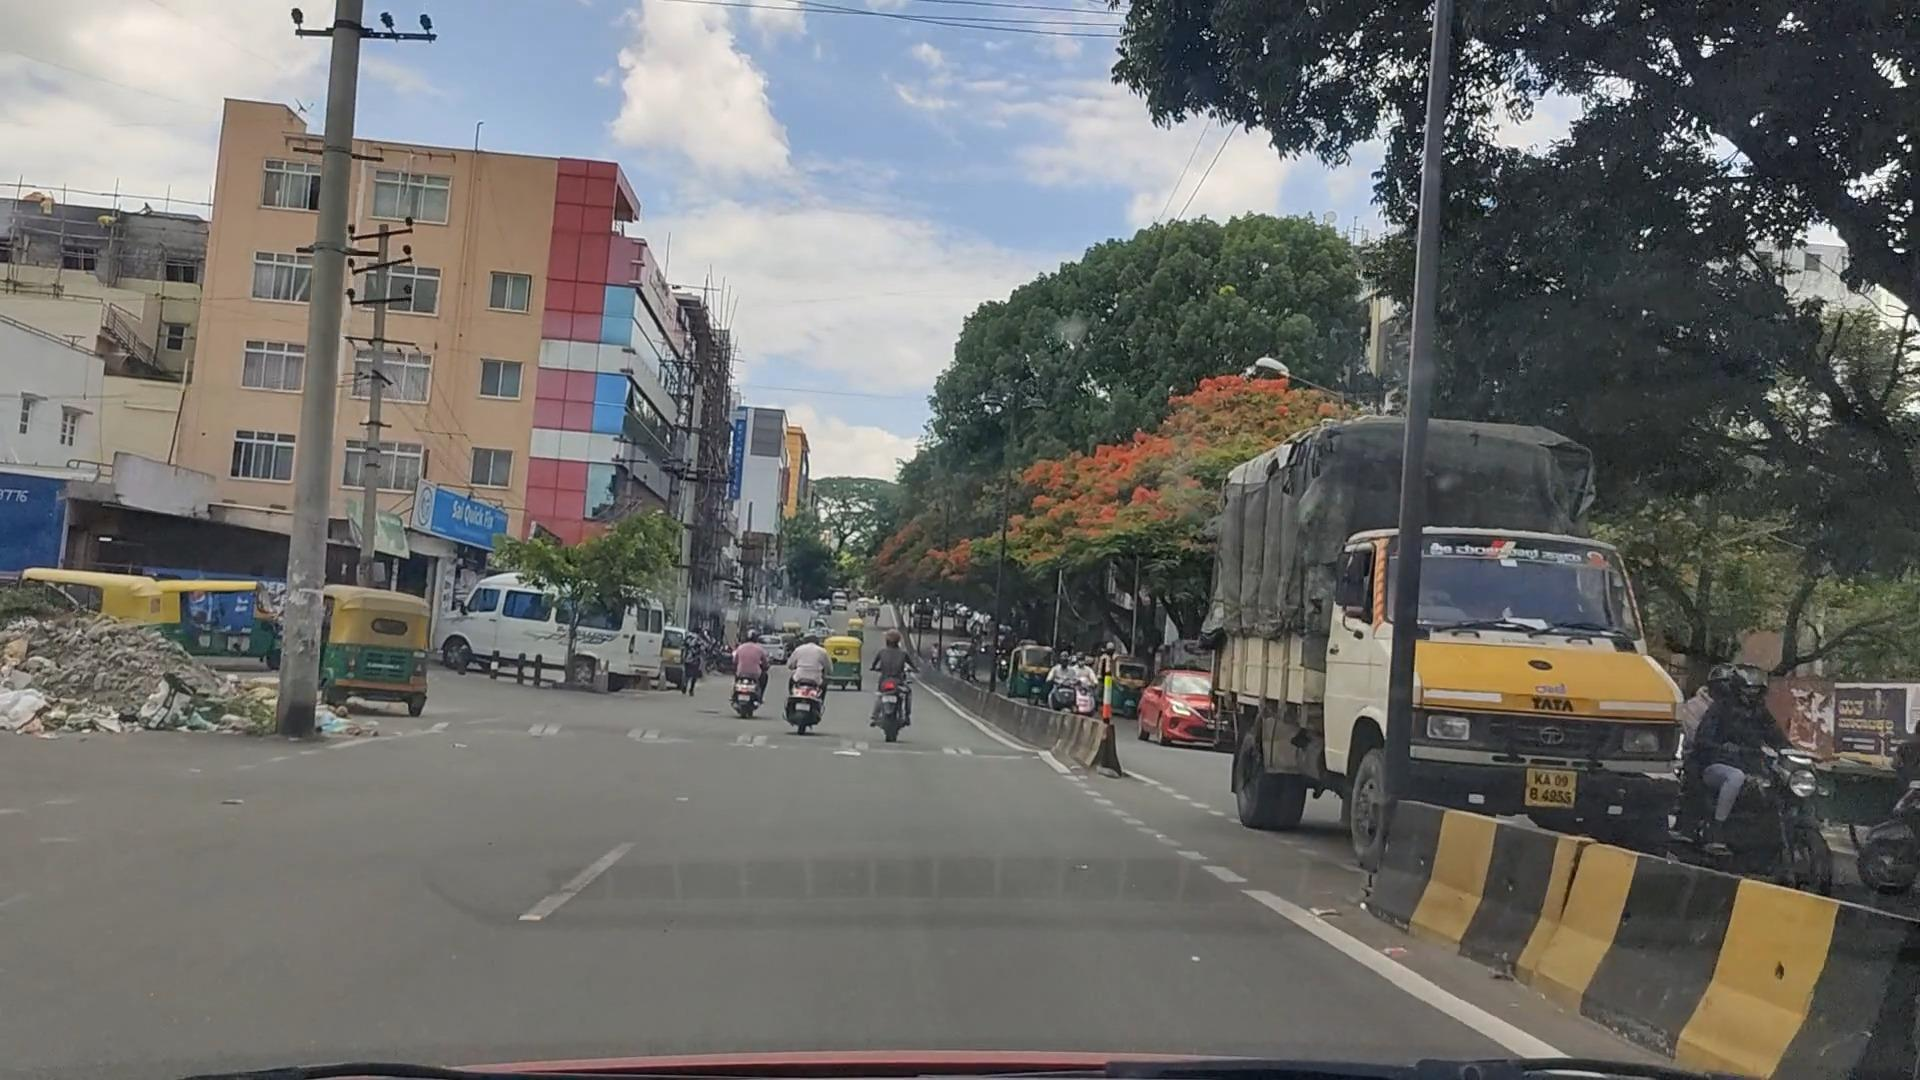SpeedBump: (458, 708, 992, 758)
